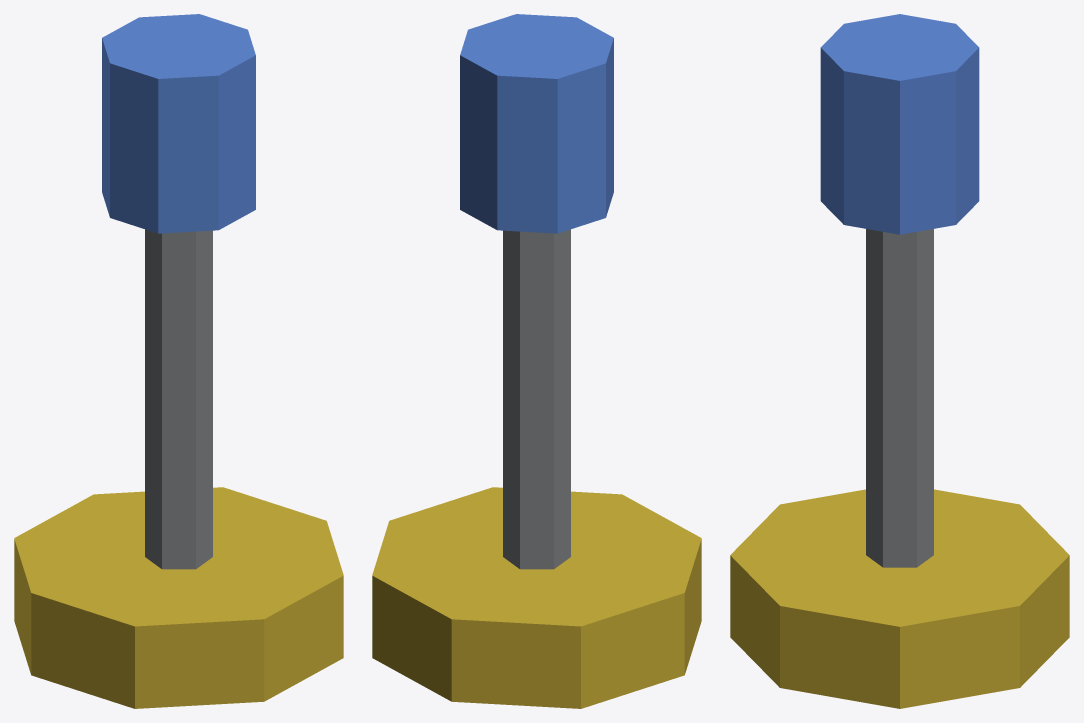
The model's file is hangar_balise_piste.glb.
3 renders of one model, left to right at view 1: azimuth 30°, elevation 25°; view 2: azimuth 150°, elevation 25°; view 3: azimuth 270°, elevation 25°, orthographic.
Parts seen in each view (by area): view 1: hangar_balise_piste; view 2: hangar_balise_piste; view 3: hangar_balise_piste.
Boxes of the visible parts, x1,y1,x2,y2 form: hangar_balise_piste: (14, 14, 343, 708); hangar_balise_piste: (372, 14, 701, 708); hangar_balise_piste: (730, 14, 1069, 708).
Size of the model in its own units: 0.3 by 0.575 by 0.3.
